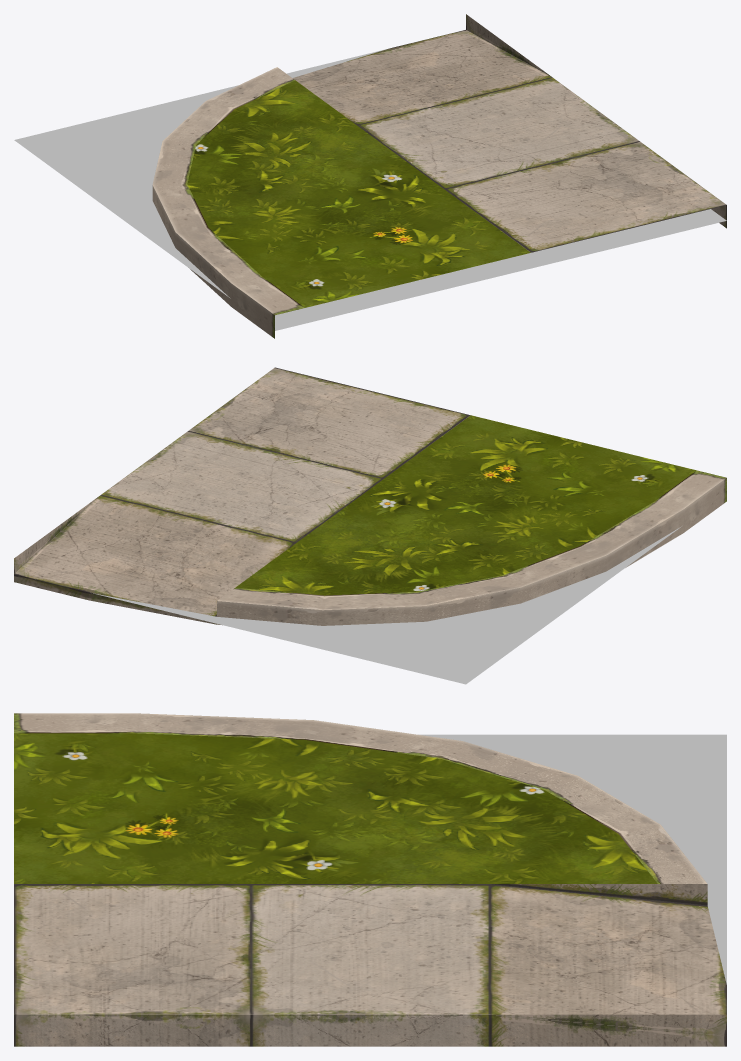
File: sidewalk01_cornerCrossL.fbx
3 views of the same model, one above another, from view 1: azimuth 30°, elevation 25°; view 2: azimuth 150°, elevation 25°; view 3: azimuth 270°, elevation 25° (orthographic). The views are drawn at different scales.
Visible parts, largest first — view 1: sidewalk01_cornerCrossL; view 2: sidewalk01_cornerCrossL; view 3: sidewalk01_cornerCrossL.
Part boxes in pixels (x1,y1,x2,y2): sidewalk01_cornerCrossL: [14, 14, 726, 338]; sidewalk01_cornerCrossL: [14, 367, 726, 684]; sidewalk01_cornerCrossL: [14, 713, 726, 1046].
Size of the model in its own units: 300 by 15 by 300.
